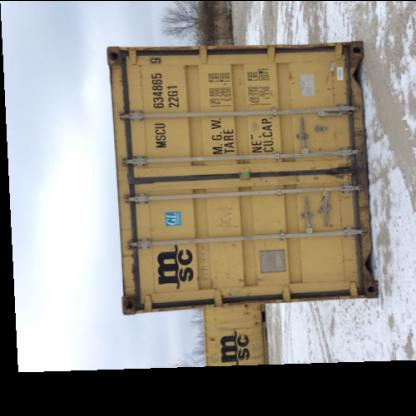Damage: (121, 231, 152, 316), (309, 156, 361, 188), (104, 48, 128, 114), (340, 82, 362, 152), (336, 40, 358, 77), (350, 174, 364, 228)
